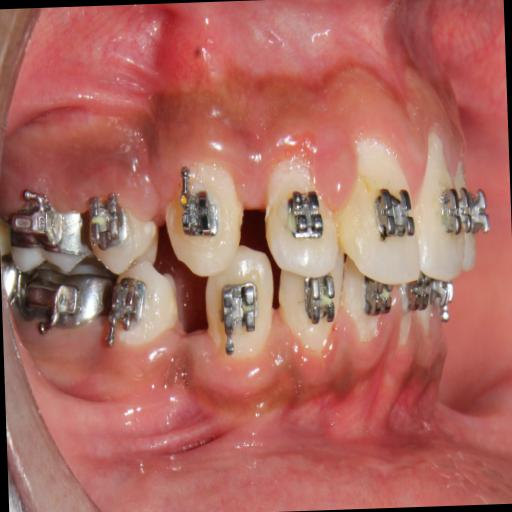correct_brace: (166, 158, 242, 277), (370, 170, 414, 252), (280, 180, 326, 254)
incorrect_brace: (338, 140, 421, 282), (176, 168, 226, 242)
